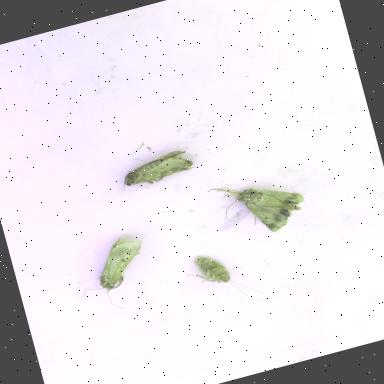abw: (204, 165, 312, 248), (68, 228, 160, 320), (115, 146, 199, 194)
